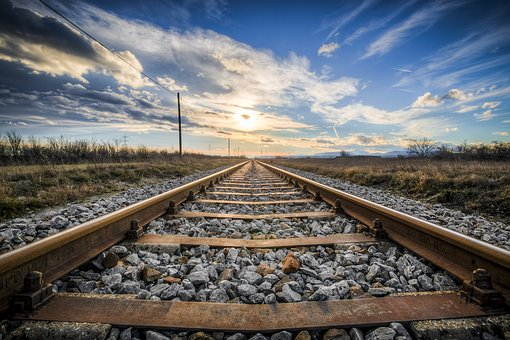rust: (8, 252, 510, 328), (90, 217, 416, 247), (164, 187, 345, 207), (193, 161, 328, 187)
